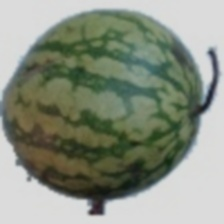watermelon: (13, 3, 200, 180)
